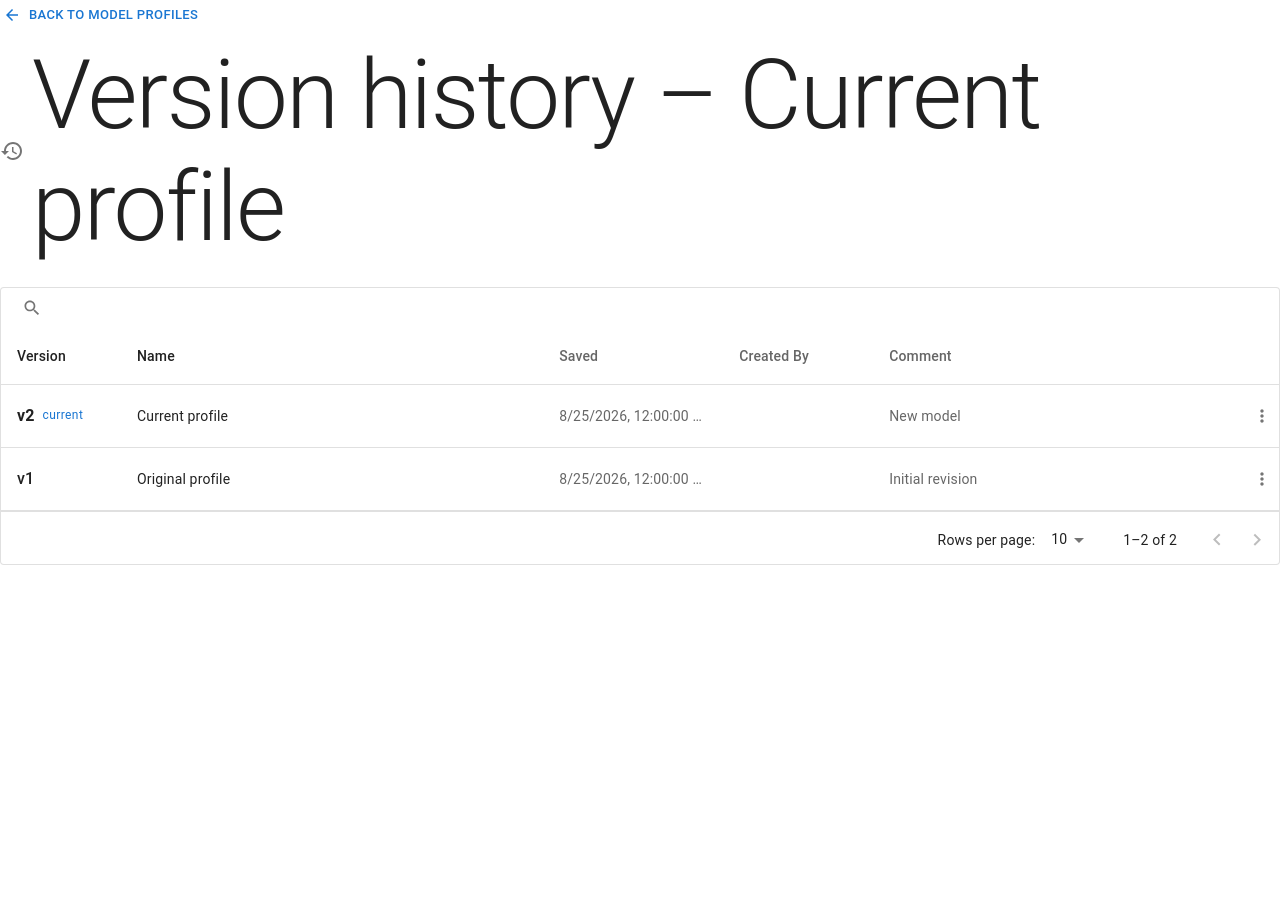
ModelProfileHistory › keeps read-only revisions viewable without restore permission
Expected: the text "Current profile" is shown, [137, 408, 228, 424]
Click the button named "Actions for version 1" at (1262, 479), box [1247, 464, 1277, 494]
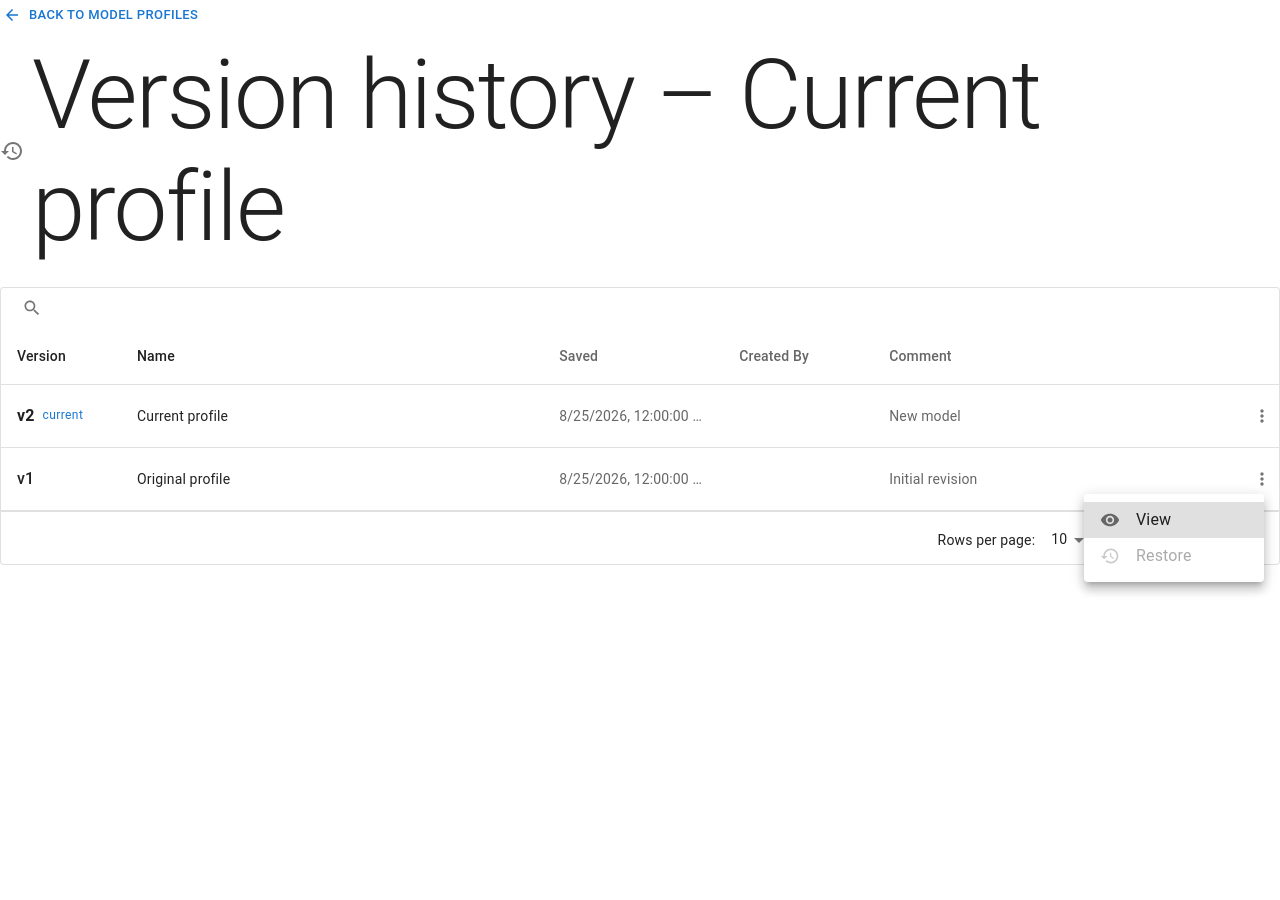
Click the menu item "View" at (1174, 520), box [1084, 502, 1264, 538]
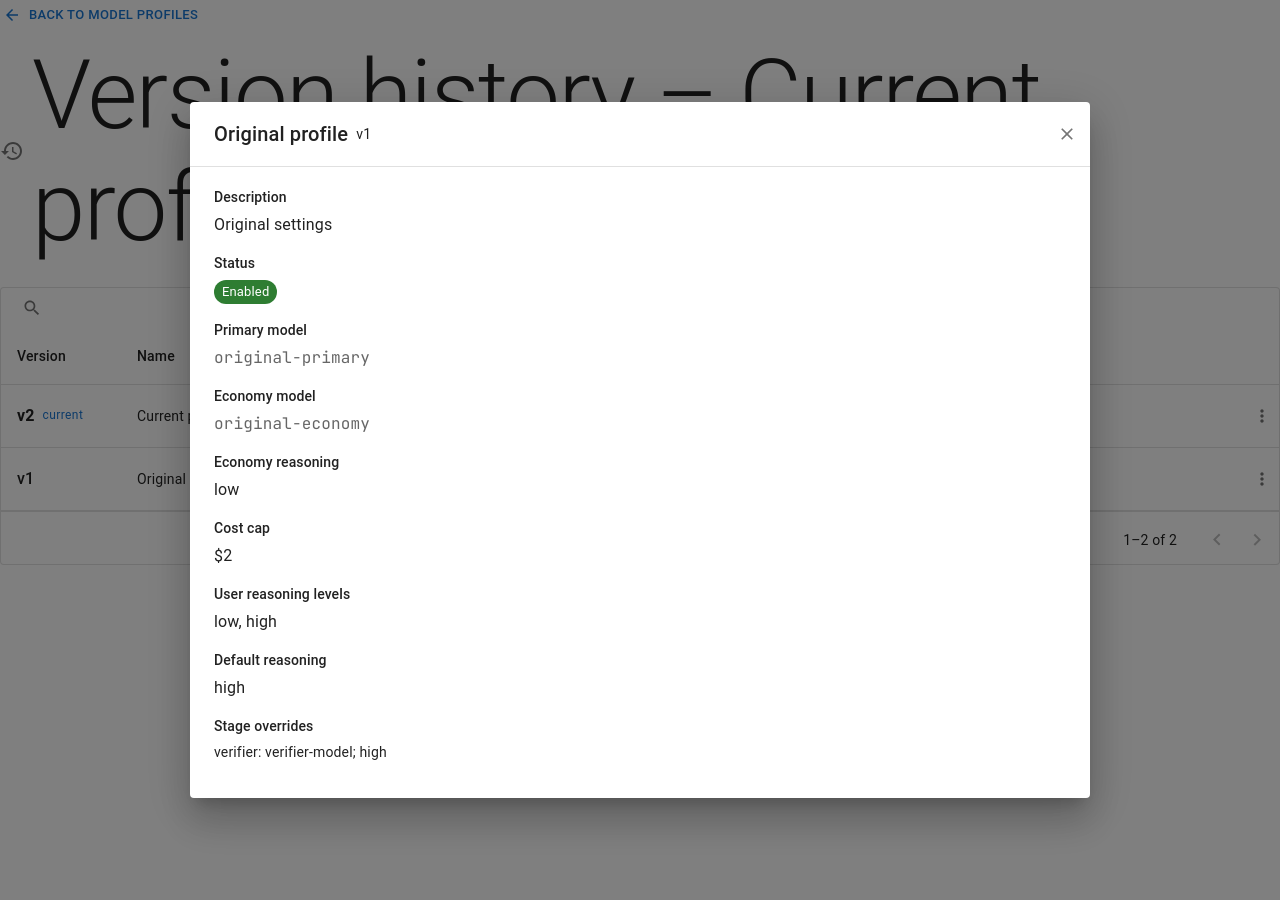
Result: the text "original-primary" is shown at [214, 347, 370, 368]
